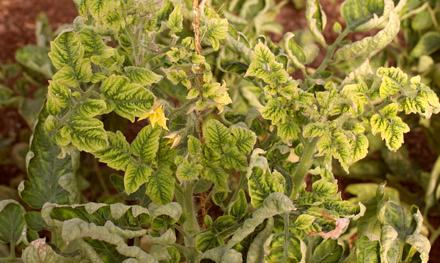Tomato leaf yellow virus: (371, 64, 440, 116), (33, 31, 90, 90), (92, 71, 156, 122), (235, 45, 296, 94), (328, 107, 368, 175), (64, 113, 116, 157), (366, 102, 411, 152), (212, 127, 256, 171), (129, 115, 159, 173), (144, 158, 173, 208), (203, 113, 233, 160), (245, 164, 281, 202), (121, 163, 150, 204), (263, 92, 288, 126)
